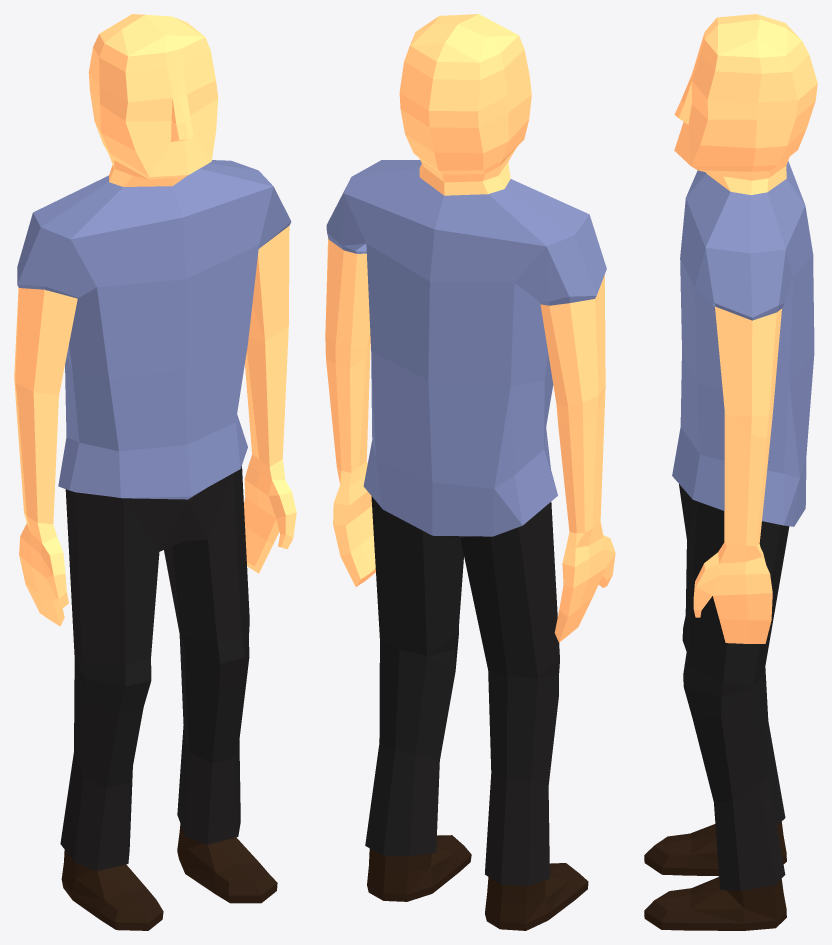
Rendered from male_standing.glb.
3 views of the same model, side by side, from view 1: azimuth 30°, elevation 25°; view 2: azimuth 150°, elevation 25°; view 3: azimuth 270°, elevation 25° (orthographic). The views are drawn at different scales.
Parts seen in each view (by area): view 1: Male_Standing; view 2: Male_Standing; view 3: Male_Standing.
Boxes of the visible parts, left/top/right/bottom form: Male_Standing: left=14, top=14, right=296, bottom=930; Male_Standing: left=325, top=14, right=615, bottom=930; Male_Standing: left=644, top=14, right=817, bottom=930.
Bounding box in the file's own units: 0.5984 × 1.85 × 0.3342.
